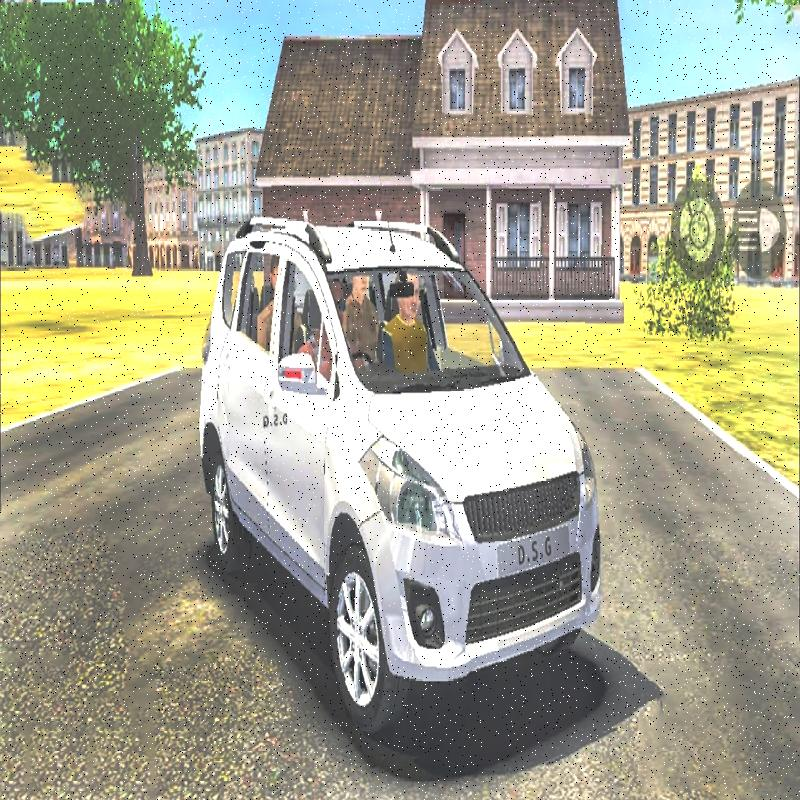car: (183, 189, 614, 800)
